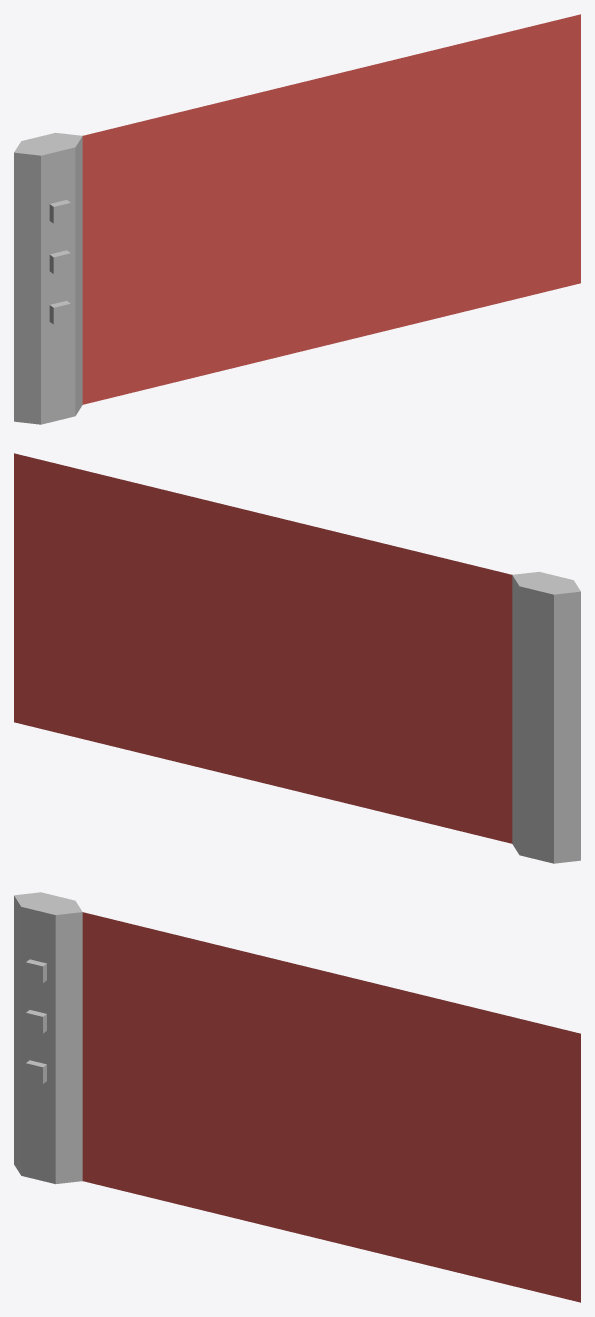
The model's file is Mirror.fbx.
The picture shows the model from 3 angles, top to bottom: view 1: azimuth 30°, elevation 25°; view 2: azimuth 150°, elevation 25°; view 3: azimuth 330°, elevation 25°; orthographic projection.
Visible parts, largest first — view 1: Mirror_Baked; view 2: Mirror_Baked; view 3: Mirror_Baked.
Part boxes in pixels (box(x1,y1,x2,y2)): Mirror_Baked: box(14, 14, 580, 424); Mirror_Baked: box(14, 453, 580, 863); Mirror_Baked: box(14, 892, 580, 1302).
Bounding box in the file's own units: 330 × 150 × 24.06.
